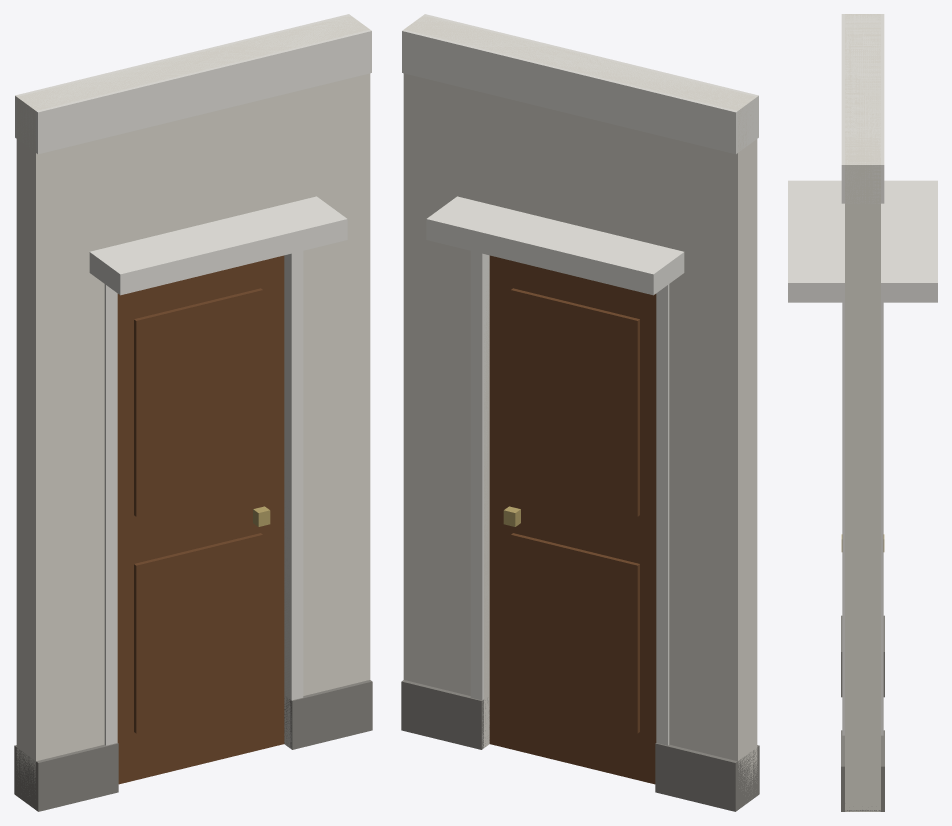
File: mod-reboco-branco-porta.gltf
3 renders of one model, left to right at view 1: azimuth 30°, elevation 25°; view 2: azimuth 150°, elevation 25°; view 3: azimuth 270°, elevation 25°, orthographic. The views are drawn at different scales.
Visible parts, largest first — view 1: mod-reboco-branco-porta; view 2: mod-reboco-branco-porta; view 3: mod-reboco-branco-porta.
Part boxes in pixels (bbox=[...]): mod-reboco-branco-porta: bbox=[14, 14, 372, 811]; mod-reboco-branco-porta: bbox=[401, 14, 759, 811]; mod-reboco-branco-porta: bbox=[788, 14, 937, 811].
Bounding box in the file's own units: 1 × 2 × 0.42.
